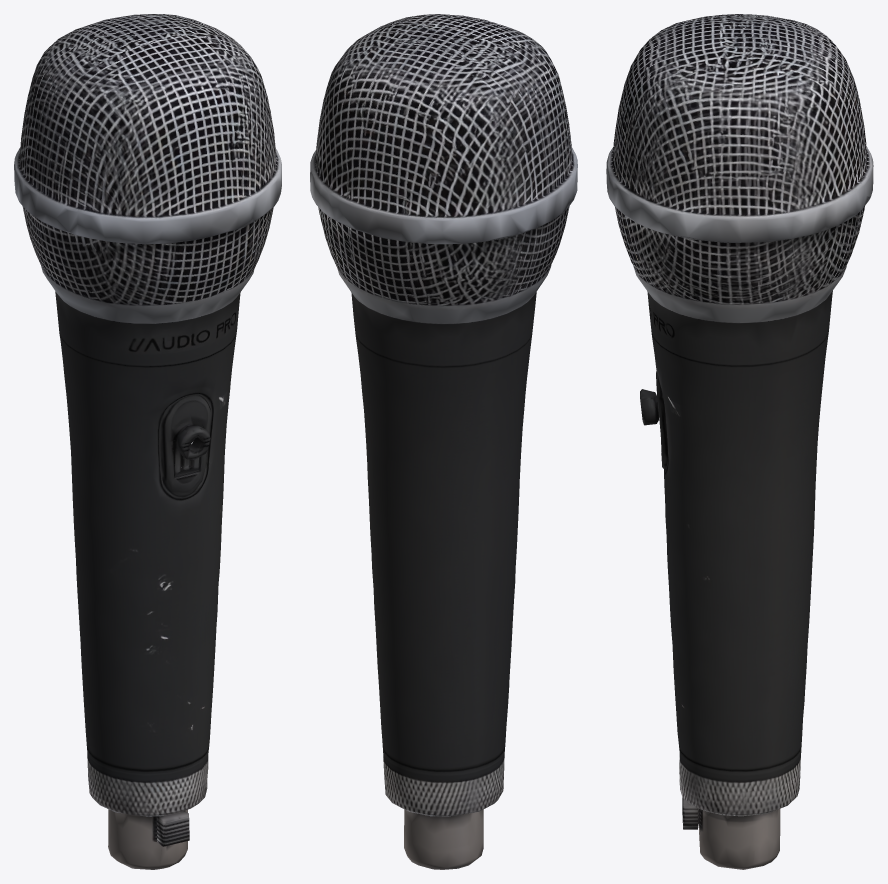
The model's file is Prop_Microphone_BlackSilver_01.glb.
The picture shows the model from 3 angles, left to right: view 1: azimuth 30°, elevation 25°; view 2: azimuth 150°, elevation 25°; view 3: azimuth 270°, elevation 25°; orthographic projection.
Parts seen in each view (by area): view 1: mesh_node; view 2: mesh_node; view 3: mesh_node.
Boxes of the visible parts, bbox=[...] form: mesh_node: bbox=[14, 14, 281, 869]; mesh_node: bbox=[310, 14, 577, 869]; mesh_node: bbox=[606, 14, 873, 869].
Size of the model in its own units: 0.5821 by 1.98 by 0.5826.
1 material, 1 textured.
